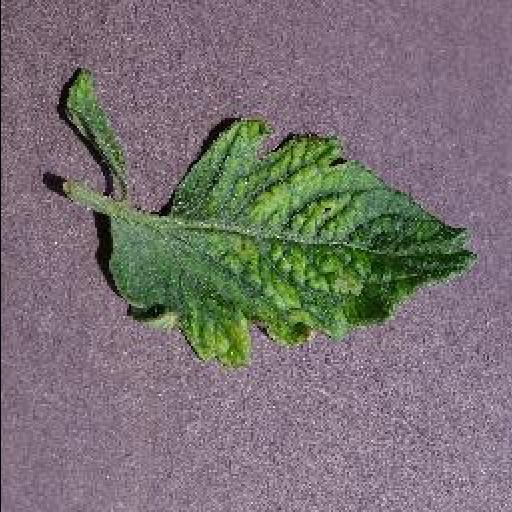disease_tomato: (108, 110, 480, 378), (58, 59, 128, 185)
